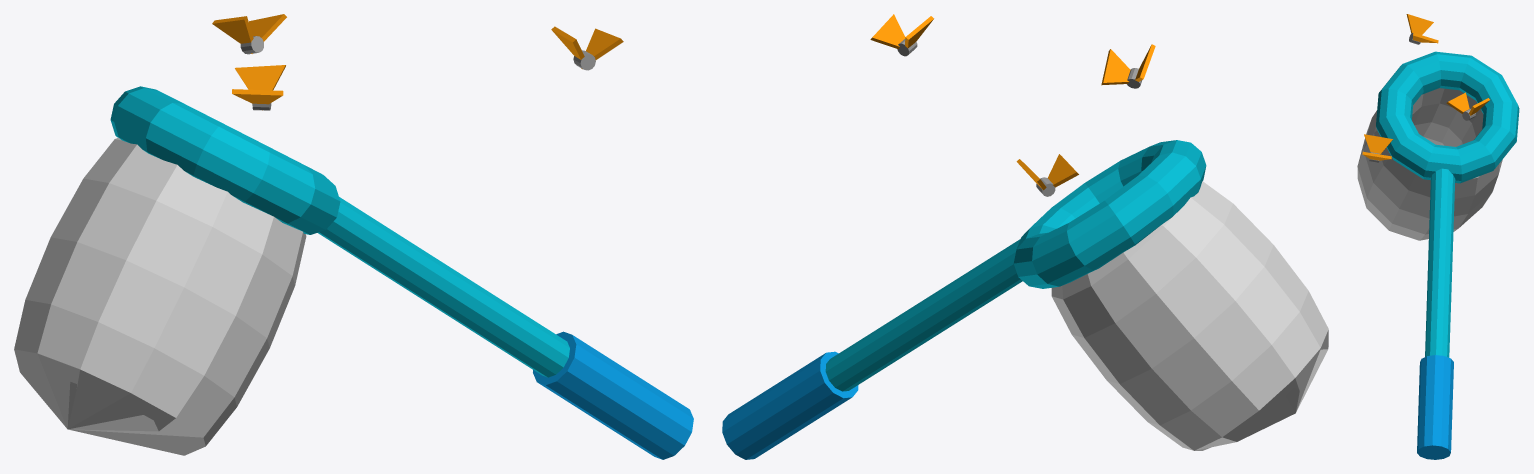
Rendered from BNet.fbx.
3 renders of one model, left to right at view 1: azimuth 30°, elevation 25°; view 2: azimuth 150°, elevation 25°; view 3: azimuth 270°, elevation 25°, orthographic. The views are drawn at different scales.
Parts seen in each view (by area): view 1: group_287812803, group_705750399, group_359790553, group_1741948978; view 2: group_287812803, group_359790553, group_1741948978, group_705750399; view 3: group_287812803, group_359790553, group_1741948978, group_705750399.
Boxes of the visible parts, left/top/right/bottom form: group_287812803: left=14, top=86, right=693, bottom=459; group_705750399: left=232, top=65, right=285, bottom=110; group_359790553: left=212, top=14, right=286, bottom=54; group_1741948978: left=551, top=26, right=623, bottom=70; group_287812803: left=722, top=140, right=1328, bottom=459; group_359790553: left=1101, top=44, right=1155, bottom=88; group_1741948978: left=870, top=14, right=933, bottom=56; group_705750399: left=1016, top=154, right=1078, bottom=196; group_287812803: left=1357, top=51, right=1519, bottom=459; group_359790553: left=1406, top=14, right=1438, bottom=44; group_1741948978: left=1362, top=134, right=1392, bottom=163; group_705750399: left=1446, top=92, right=1489, bottom=120.
Size of the model in its own units: 90.43 by 73.13 by 33.07.
